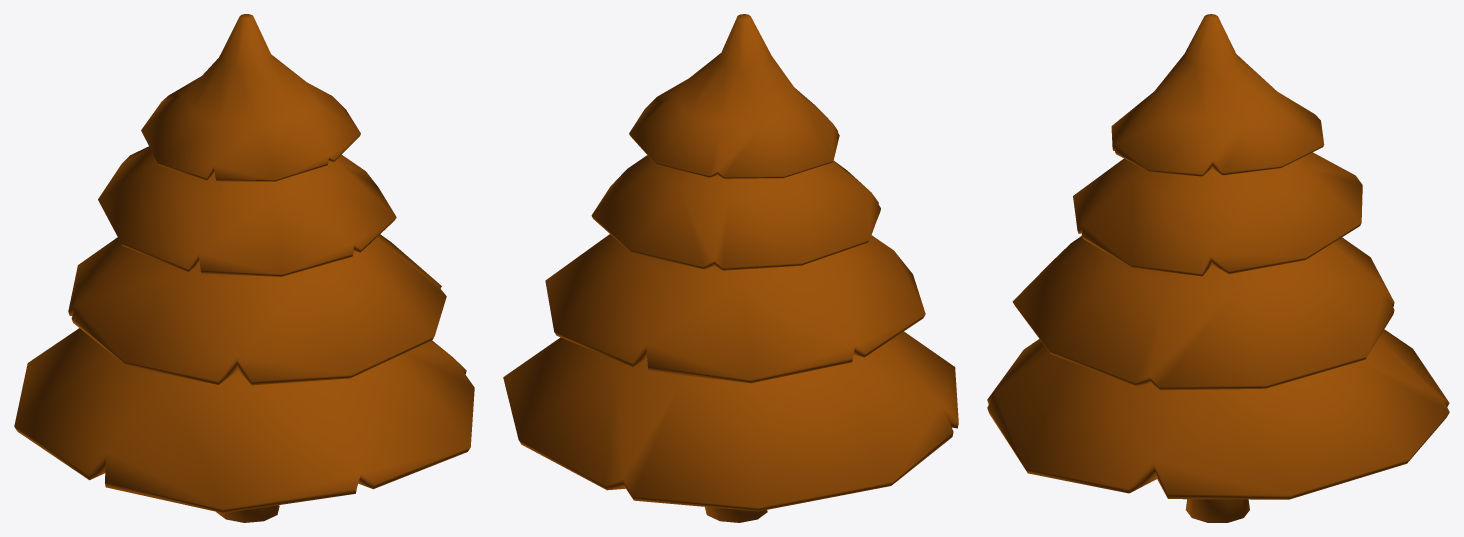
File: chunkyTree.obj
3 views of the same model, side by side, from view 1: azimuth 30°, elevation 25°; view 2: azimuth 150°, elevation 25°; view 3: azimuth 270°, elevation 25° (orthographic).
Bounding box in the file's own units: 3.63 × 4.36 × 3.72.
